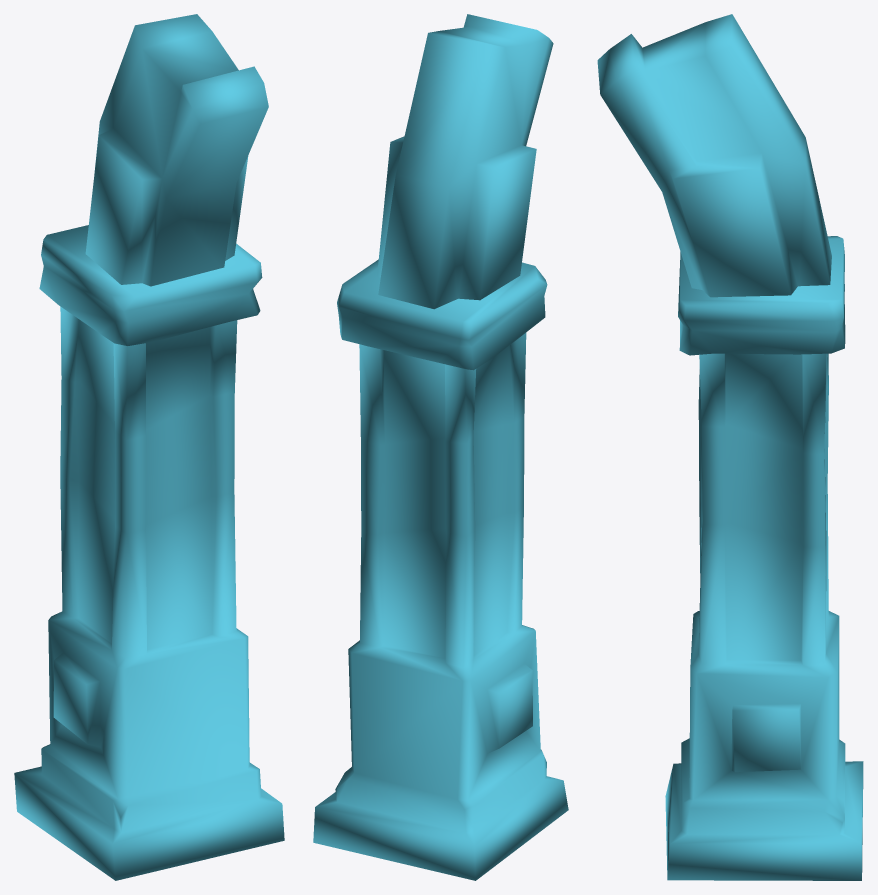
Rendered from column_arc_03.FBX.
The picture shows the model from 3 angles, left to right: view 1: azimuth 30°, elevation 25°; view 2: azimuth 150°, elevation 25°; view 3: azimuth 270°, elevation 25°; orthographic projection. The views are drawn at different scales.
Visible parts, largest first — view 1: column_arc_03; view 2: column_arc_03; view 3: column_arc_03.
Boxes of the visible parts, <box> form: column_arc_03: <box>14,14,284,880</box>; column_arc_03: <box>313,14,568,880</box>; column_arc_03: <box>597,14,863,880</box>.
Bounding box in the file's own units: 36.05 × 165 × 49.13.
